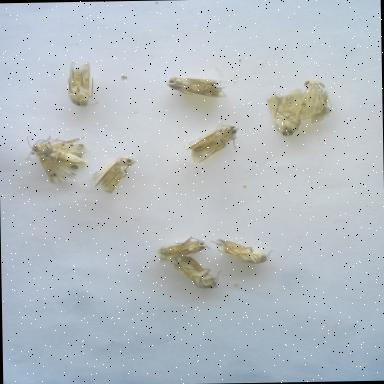abw: (180, 121, 244, 165), (86, 152, 140, 198), (159, 72, 229, 104), (262, 86, 303, 140), (63, 57, 104, 110), (290, 77, 337, 123), (168, 254, 224, 292), (212, 233, 274, 267), (152, 232, 212, 262)
